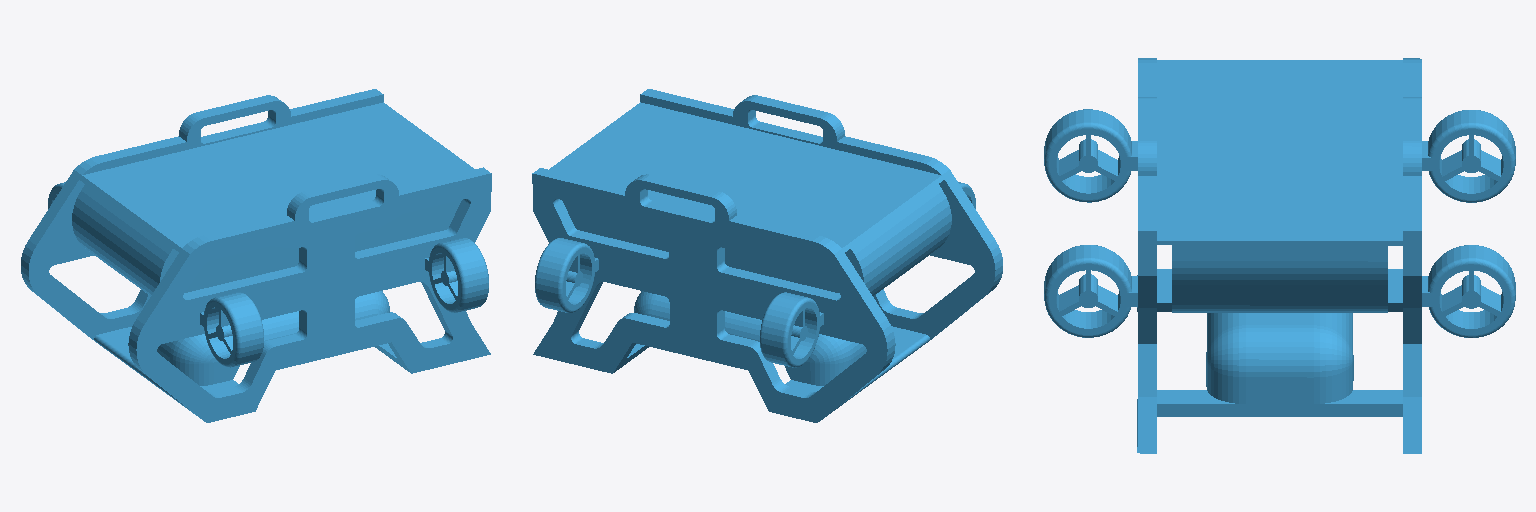
URDF robot description (BlueRov2):
<?xml version="1.0"?>
<robot name="BlueRov2" xmlns:xacro="http://www.ros.org/wiki/xacro">



  <link name="thruster_1">
    <!-- <buoyancy><compensation>1.0</compensation></buoyancy> -->
    <visual>
    <origin xyz="5.25 -0.26 -5.1" rpy="0 1.57 0"/>
    <geometry>
      <mesh filename="package://bluerov_ros_playground/meshes/T100.STL" />
    </geometry>
    </visual>
    <collision>
    <origin xyz="0 0 0" rpy="0 1.57 0"/>
    <geometry>
      <mesh filename="package://bluerov_ros_playground/meshes/T100.STL" />
    </geometry>
    </collision>
    <!-- <inertial>
      <mass value=".1"/>
      <inertia
      ixx=".1"
      ixy="0.0"
      ixz="0.0"
      iyy=".1"
      iyz="0.0"
      izz=".1"/>
    </inertial> -->
     </link>

      



<!--           <gazebo> -->
    <!-- Gazebo plugin listens to the body-->
<!--     <plugin name="freefloating_gazebo_control" filename="libfreefloating_gazebo_control.so">
        <switchService>switch</switchService>
        <updateRate>100</updateRate>
        <link>base_link</link> -->

        <!-- for each thruster, give the map to XYZ+RPY and the maximum effort -->
        <!-- Based on 6 thrusters vectored frame https://www.ardusub.com/images/vectored-frame.png -->
        <!-- BlueRov2 CAD https://grabcad.com/library/bluerov2-1 -->
   <!--      <thruster>
            <effort>30</effort>
            <name>thruster_1</name>
            <map>0.707 0.707 0 0 0 -0.167</map>
        </thruster> -->
        <!-- <thruster>
            <effort>30</effort>
            <name>thr2</name>
            <map>-0.707 0.707 0 0 0 0.167</map>
        </thruster>
        <thruster>
            <effort>30</effort>
            <name>thr3</name>
            <map>0.707 -0.707 0 0 0 0.167</map>
        </thruster>
        <thruster>
            <effort>30</effort>
            <name>thr4</name>
            <map>-0.707 -0.707 0 0 0 -0.167</map>
        </thruster>
        <thruster>
            <effort>30</effort>
            <name>thr5</name>
            <map>0 0 -1 0 -0.111 0</map>
        </thruster>
        <thruster>
            <effort>30</effort>
            <name>thr6</name>
            <map>0 0 -1 0 0.111 0</map>
        </thruster> -->
<!--     </plugin>
    </gazebo> -->

    <link name="base_link">
    <visual>
      <origin xyz="0.25 -0.26 -0.1" rpy="-1.57 -3.14 0"/>
      <geometry>
        <mesh filename="package://bluerov_ros_playground/meshes/newauv.STL"/>
      </geometry>
    </visual>
<!--     <inertial> -->
<!--       <origin xyz="-0.25 -0.26 0.1" rpy="0 0 0"/> -->
     <!--  <mass value="11"/>
    <inertia
      ixx="1"
      ixy="0"
      ixz="0"
      iyy="1"
      iyz="0"
      izz="1"/>
    </inertial>  -->
    <collision>
      <origin xyz="0.25 -0.26 -0.1" rpy="-1.57 0 0"/>
      <geometry>
        <mesh filename="package://bluerov_ros_playground/meshes/auvmm.STL"/>
      </geometry>
    </collision>
    <!-- <buoyancy>
        <compensation>0.2525</compensation>
        <origin xyz= "0.12585 0.111 -0.8945"/>
    </buoyancy>
    <buoyancy>
        <compensation>0.2525</compensation>
        <origin xyz= "-0.12585 0.111 -0.8945"/>
    </buoyancy>
    <buoyancy>
        <compensation>0.2525</compensation>
        <origin xyz= "-0.12585 -0.111 -0.8945"/>
    </buoyancy>
    <buoyancy>
        <compensation>0.2525</compensation>
        <origin xyz= "0.12585 -0.111 -0.8945"/>
    </buoyancy> -->
  </link>

  <joint name="thruster_1_base_link" type="continuous">
        <parent link="base_link"/>
        <child link="thruster_1"/>
        <origin rpy="3.14 0 0" xyz="5.25 -4.26 -5.1"/>
      </joint>

</robot>

--- Facts derived from the render (not from the file) ---
Views: 3 orthographic renders of the robot side by side, from view 1: azimuth 30°, elevation 25°; view 2: azimuth 150°, elevation 25°; view 3: azimuth 270°, elevation 25°.
Model BlueRov2 with 2 links and 1 joints (1 continuous), rooted at base_link, posed every joint at zero.
Links seen in each view (by area): view 1: base_link; view 2: base_link; view 3: base_link.
Link boxes in pixels (<box>): base_link: <box>21,89,491,422</box>; base_link: <box>532,89,1002,422</box>; base_link: <box>1044,58,1515,453</box>.
Bounding box of the posed robot: 513 × 480 × 278 m (x, y, z).
Meshes: 2 distinct files referenced, 1 mesh visuals loaded (1 binary STL); not drawn: 1 (reference not matched to a file when rendering).
